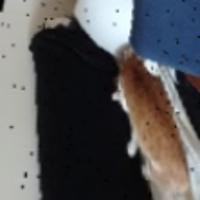asleep: (107, 56, 192, 193)
